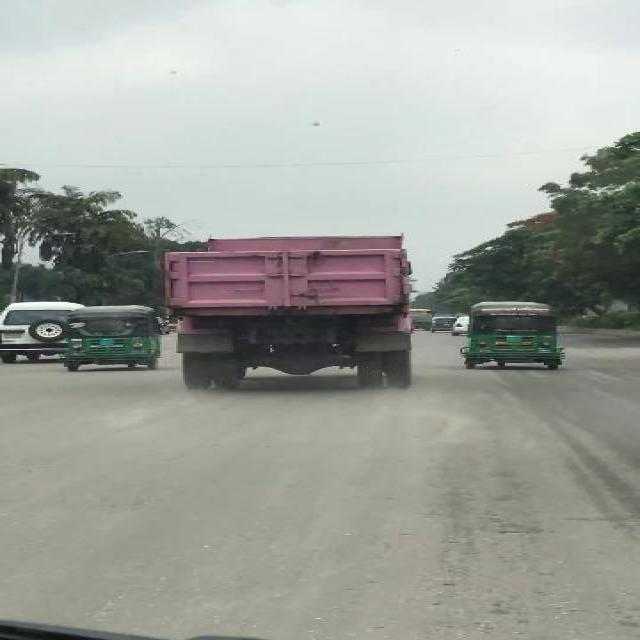vehicle: (160, 232, 425, 392), (461, 302, 569, 374), (62, 305, 164, 373), (1, 302, 69, 364), (431, 318, 453, 332), (453, 317, 467, 335)
